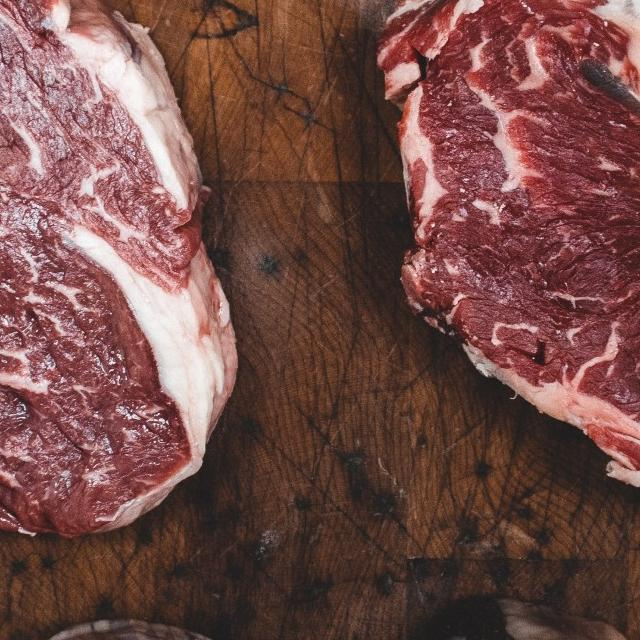beef: (0, 0, 167, 462)
